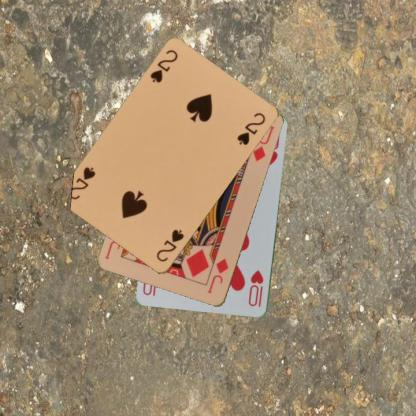10h: (246, 268, 265, 308)
2s: (154, 227, 186, 264), (147, 47, 179, 84)
Jd: (204, 256, 230, 295)
